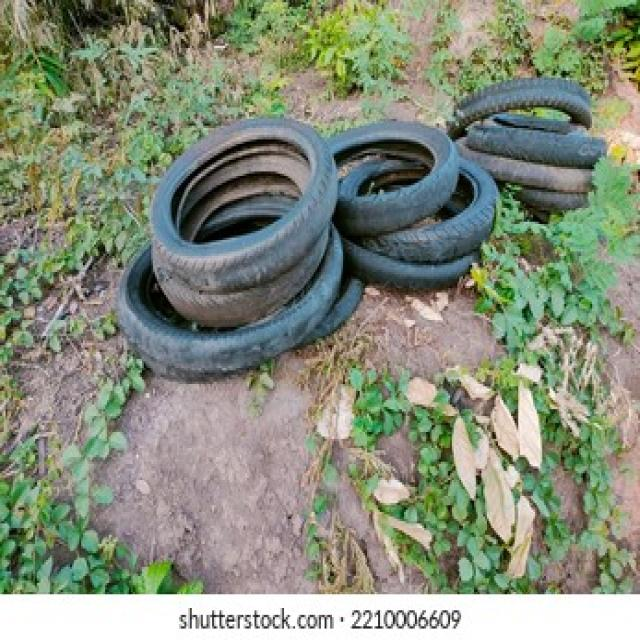tire: (148, 114, 338, 327), (115, 220, 362, 380), (323, 117, 459, 236)
